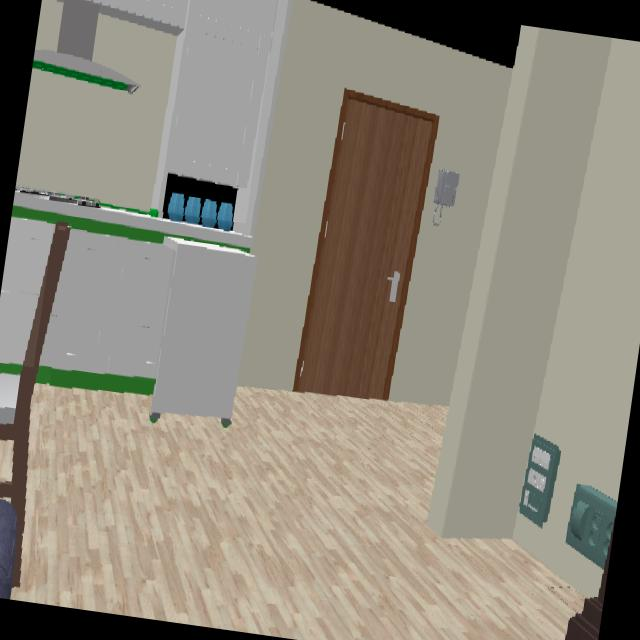cabinet: (84, 0, 277, 212), (40, 230, 173, 378), (0, 220, 54, 366)
chair: (0, 223, 71, 585)
stove: (15, 189, 99, 205)
